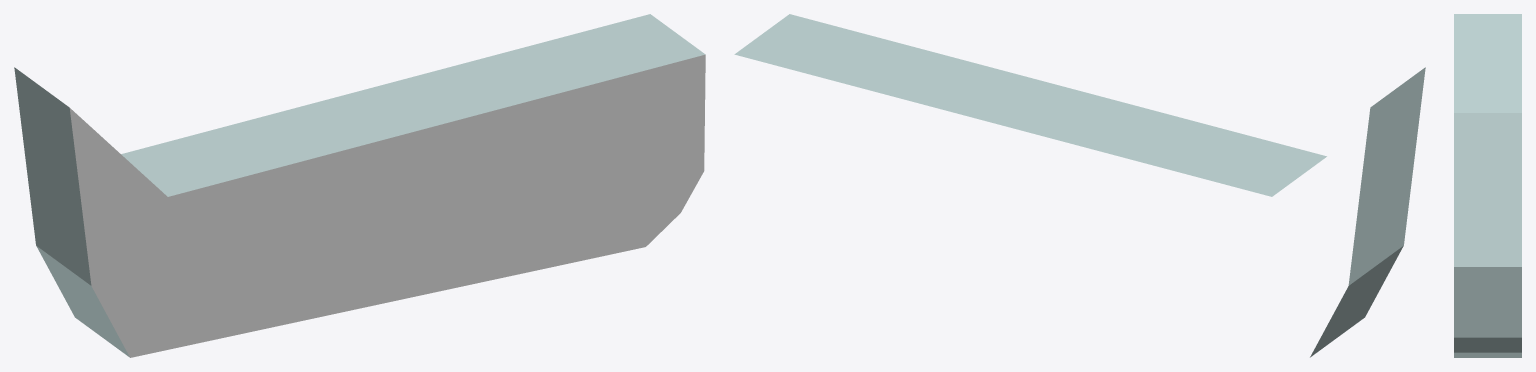
The picture shows the model from 3 angles, left to right: view 1: azimuth 30°, elevation 25°; view 2: azimuth 150°, elevation 25°; view 3: azimuth 270°, elevation 25°; orthographic projection. The views are drawn at different scales.
Visible parts, largest first — view 1: 0_3_2_1_0_1_1_2_0; view 2: 0_3_2_1_0_1_1_2_0; view 3: 0_3_2_1_0_1_1_2_0.
Part boxes in pixels (x1,y1,x2,y2): 0_3_2_1_0_1_1_2_0: (14, 14, 705, 357); 0_3_2_1_0_1_1_2_0: (734, 14, 1425, 357); 0_3_2_1_0_1_1_2_0: (1454, 14, 1521, 357).
Bounding box in the file's own units: 19.89 × 8.37 × 3.
